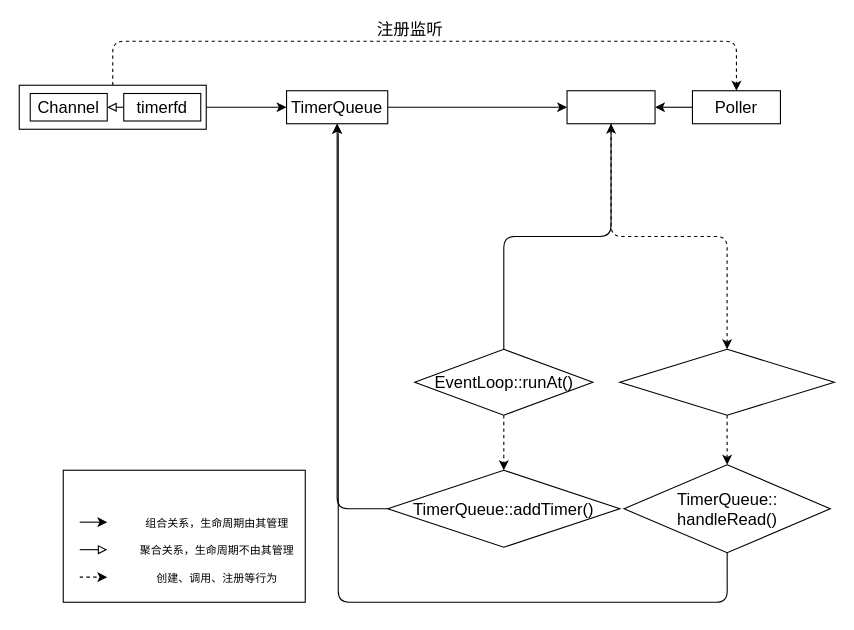
Image size: 854x630. Some labels were removed from this diagram. Each missing label, with the box of its shape:
Channel:: handleEvent(): (619, 348, 834, 415)
EventLoop: (566, 90, 655, 124)
箭头含义: (62, 469, 305, 602)
